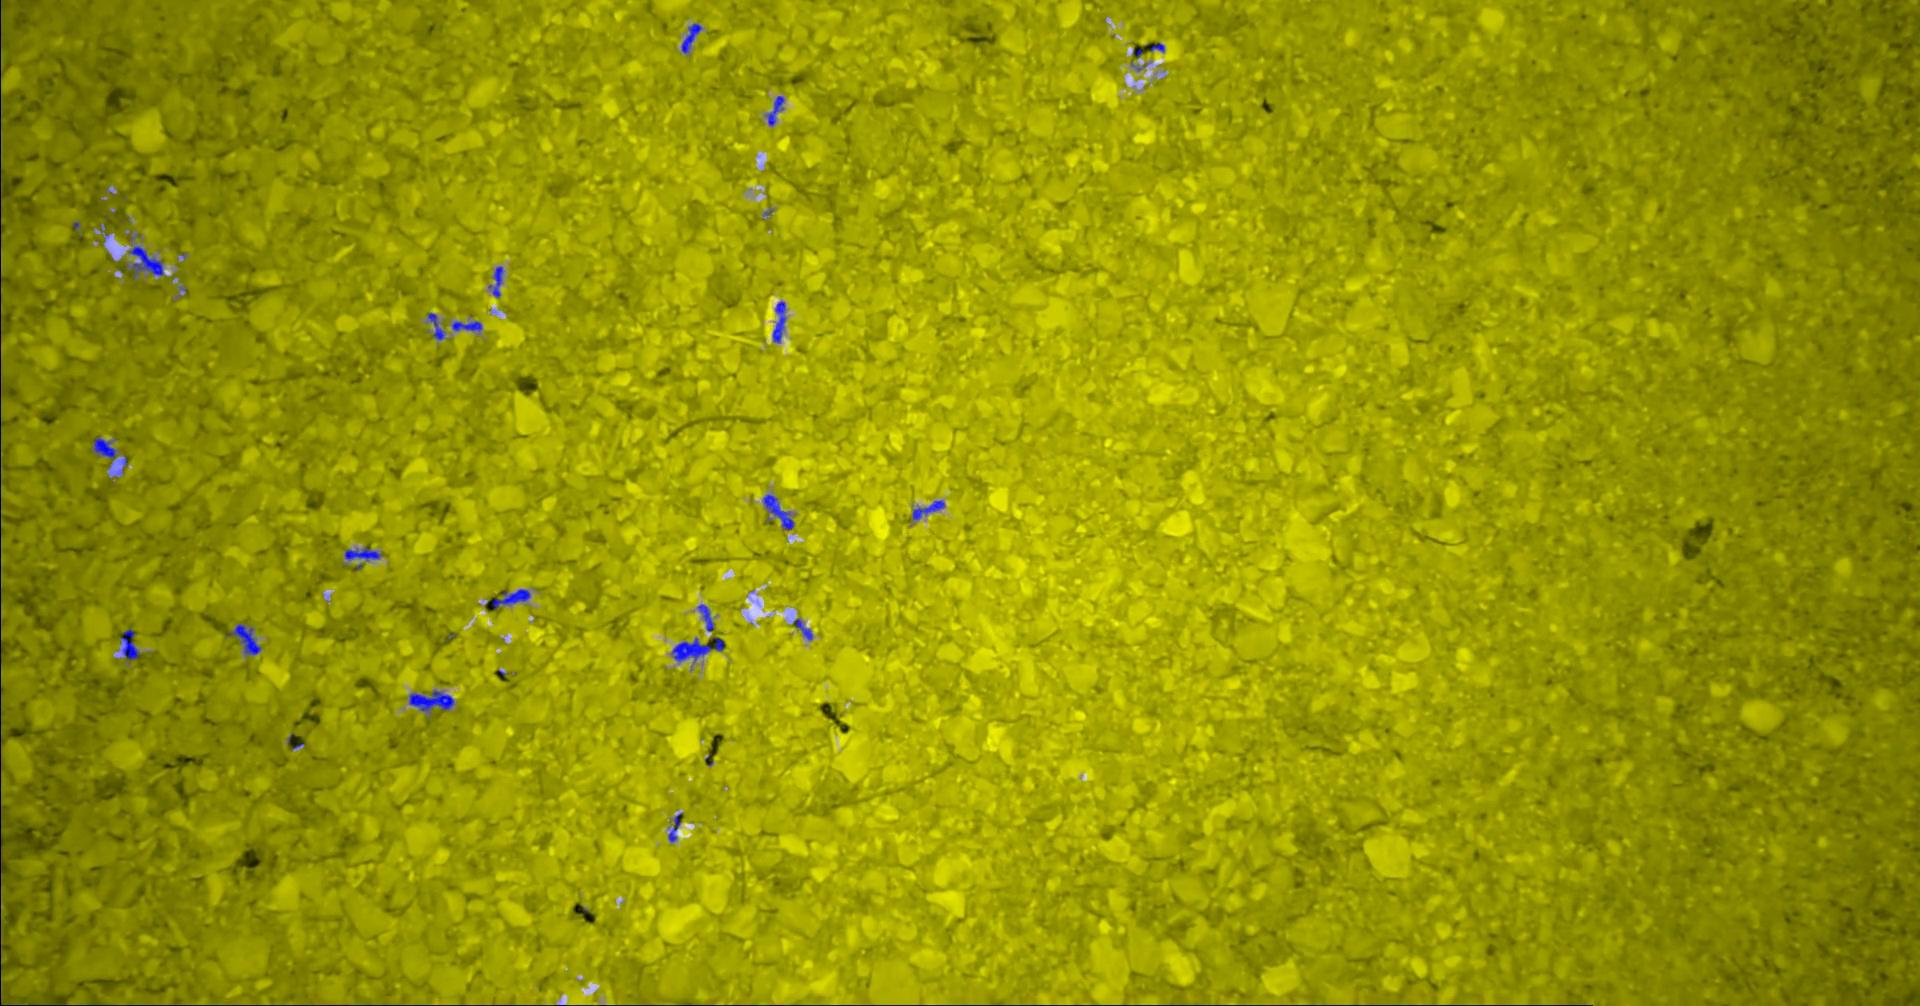ant: (670, 636, 724, 661), (128, 245, 163, 278), (229, 622, 260, 654), (763, 494, 792, 528), (485, 588, 530, 608), (409, 690, 453, 710), (681, 23, 701, 53), (93, 437, 116, 464), (912, 500, 943, 520), (119, 629, 138, 659), (766, 95, 783, 124), (772, 301, 785, 342), (427, 312, 444, 339), (344, 547, 381, 560), (667, 812, 682, 841), (488, 265, 502, 297), (697, 605, 712, 631), (792, 619, 811, 639), (451, 321, 481, 332)
